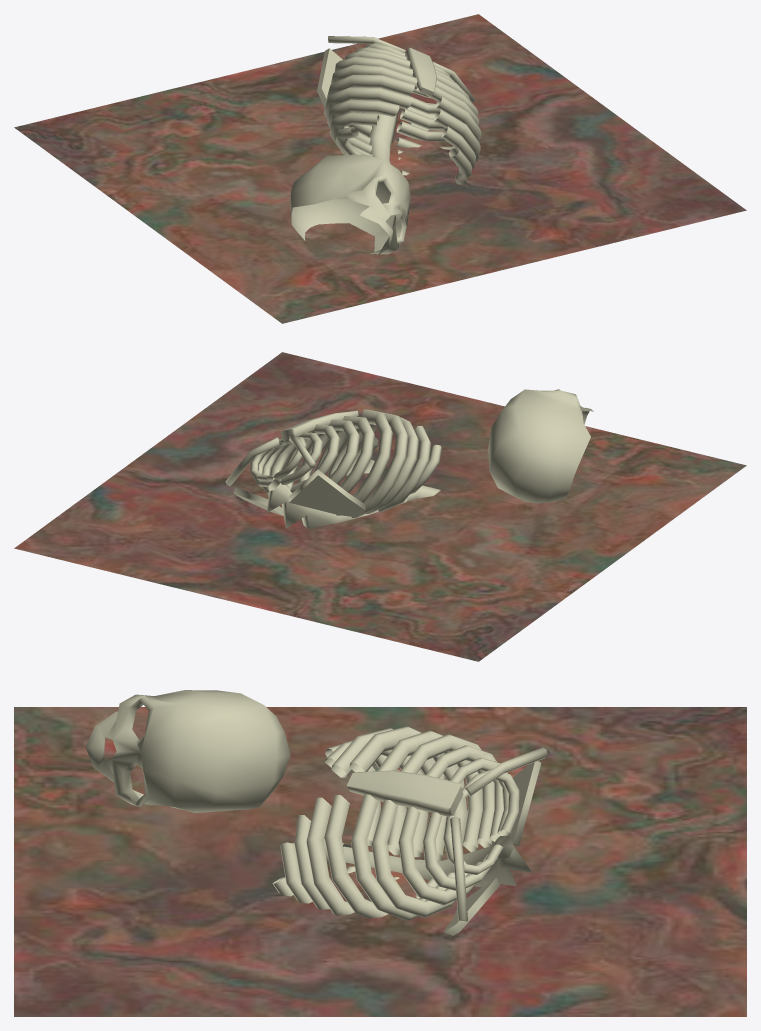
The model's file is cave_floor_decor_008.glb.
The picture shows the model from 3 angles, top to bottom: view 1: azimuth 30°, elevation 25°; view 2: azimuth 150°, elevation 25°; view 3: azimuth 270°, elevation 25°; orthographic projection. The views are drawn at different scales.
Visible parts, largest first — view 1: cave_floor_decor.008; view 2: cave_floor_decor.008; view 3: cave_floor_decor.008.
Boxes of the visible parts, <box> form: cave_floor_decor.008: <box>14,14,746,323</box>; cave_floor_decor.008: <box>14,352,746,661</box>; cave_floor_decor.008: <box>14,690,746,1016</box>.
Bounding box in the file's own units: 2 × 0.4993 × 2.
Materials: 2 (1 with a texture image).
